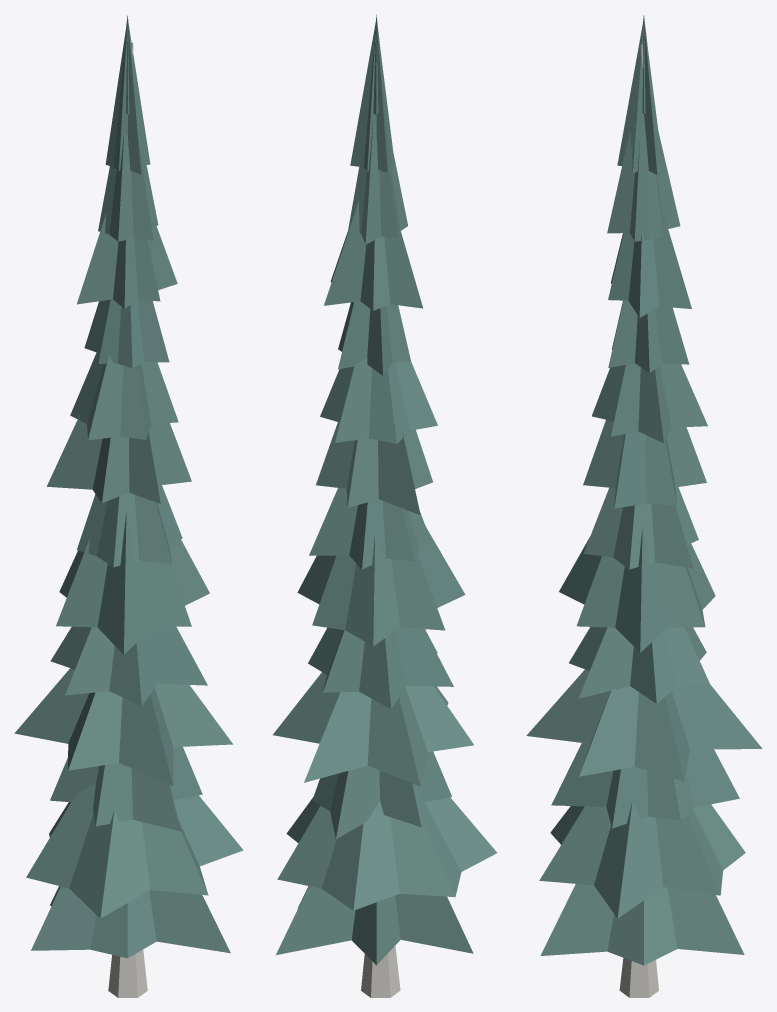
Rendered from dense-temperate-forest-flora-silver-fir-mature-87e1e9e8__28351.glb.
3 views of the same model, side by side, from view 1: azimuth 30°, elevation 25°; view 2: azimuth 150°, elevation 25°; view 3: azimuth 270°, elevation 25° (orthographic).
Parts seen in each view (by area): view 1: silver-fir-mature; view 2: silver-fir-mature; view 3: silver-fir-mature.
Part boxes in pixels (x1,y1,x2,y2): silver-fir-mature: (14, 15, 243, 997); silver-fir-mature: (273, 14, 496, 997); silver-fir-mature: (526, 15, 762, 997).
Bounding box in the file's own units: 4.64 × 21.63 × 4.74.
